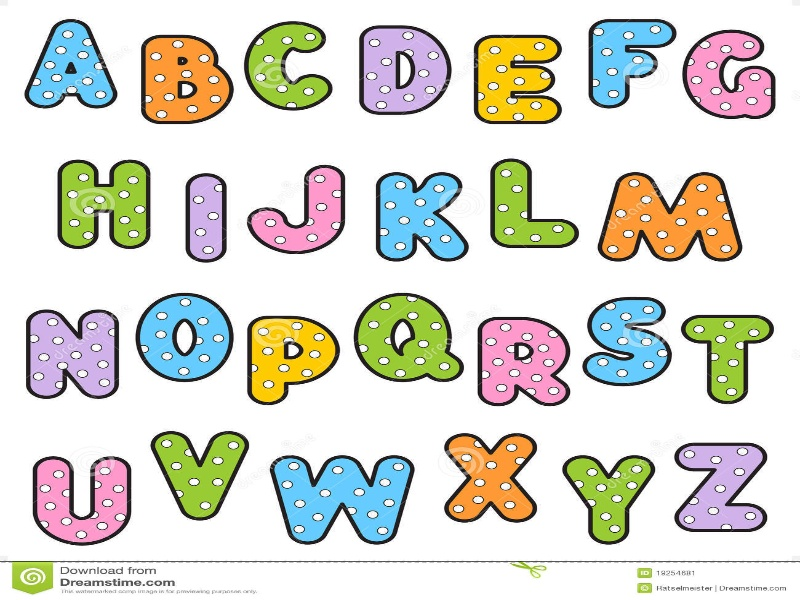letter: (599, 164, 749, 271), (270, 446, 422, 550), (671, 435, 786, 552), (432, 423, 552, 535), (18, 442, 141, 550), (366, 164, 477, 278), (48, 151, 164, 257), (474, 303, 578, 421), (242, 159, 348, 273), (354, 293, 468, 398), (148, 424, 258, 527), (685, 17, 778, 138), (18, 302, 126, 406), (581, 13, 681, 124), (244, 307, 341, 421), (356, 20, 458, 126), (134, 27, 235, 132), (470, 21, 566, 131), (684, 301, 778, 412), (23, 14, 118, 121), (563, 443, 652, 554), (486, 154, 578, 261), (132, 296, 235, 390), (582, 293, 675, 395), (244, 24, 331, 113), (175, 163, 237, 271)
